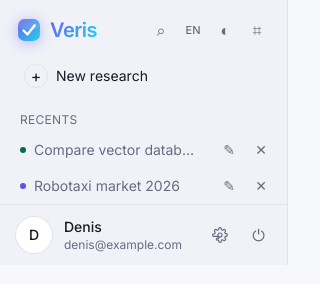
it: AppSidebar recents › Escape in a rename ends only the rename, and focus returns to its row
Step 1. Click the 1st button "✎" → (229, 150), box [215, 136, 243, 164]
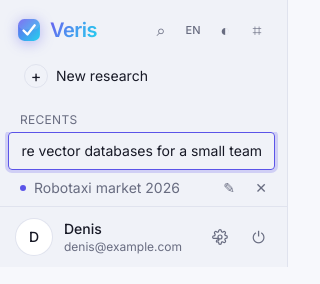
Step 2. Press Escape in the field named "Rename", box [8, 132, 275, 170]
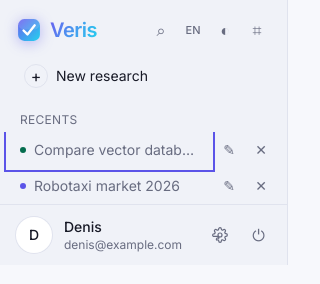
expect the button "Compare vector databases for a…" is shown: met, box [8, 132, 211, 168]
